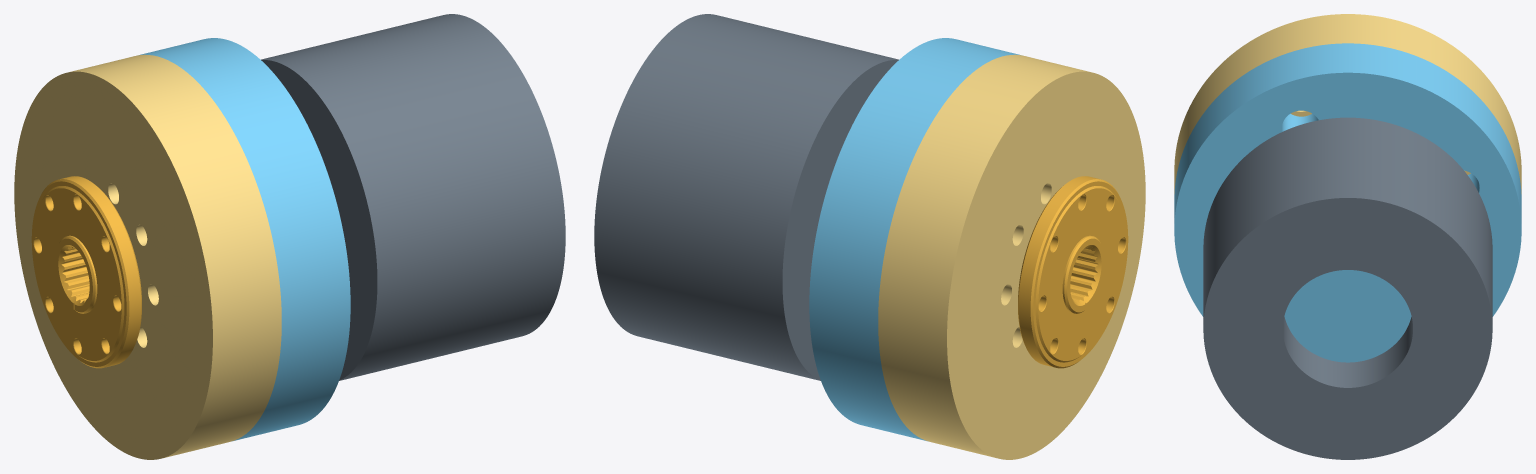
File: FX103_output_adapter_P0.2_review.glb
The picture shows the model from 3 angles, left to right: view 1: azimuth 30°, elevation 25°; view 2: azimuth 150°, elevation 25°; view 3: azimuth 270°, elevation 25°; orthographic projection. The views are drawn at different scales.
Parts seen in each view (by area): view 1: RULAND_MJC33_15_A_CATALOG_ENVELOPE_NOT_SELECTED, FX103_C01_P02_HORN_FLANGE_CANDIDATE, FX103_C02_P01_SHAFT_FLANGE_CANDIDATE, HN12_N101_EXACT_VENDOR_GEOMETRY; view 2: RULAND_MJC33_15_A_CATALOG_ENVELOPE_NOT_SELECTED, FX103_C01_P02_HORN_FLANGE_CANDIDATE, FX103_C02_P01_SHAFT_FLANGE_CANDIDATE, HN12_N101_EXACT_VENDOR_GEOMETRY; view 3: RULAND_MJC33_15_A_CATALOG_ENVELOPE_NOT_SELECTED, FX103_C02_P01_SHAFT_FLANGE_CANDIDATE, FX103_C01_P02_HORN_FLANGE_CANDIDATE.
Part boxes in pixels (x1=…): RULAND_MJC33_15_A_CATALOG_ENVELOPE_NOT_SELECTED: x1=261, y1=14, x2=565, y2=380; FX103_C01_P02_HORN_FLANGE_CANDIDATE: x1=14, y1=54, x2=281, y2=459; FX103_C02_P01_SHAFT_FLANGE_CANDIDATE: x1=139, y1=38, x2=350, y2=441; HN12_N101_EXACT_VENDOR_GEOMETRY: x1=31, y1=176, x2=141, y2=368; RULAND_MJC33_15_A_CATALOG_ENVELOPE_NOT_SELECTED: x1=594, y1=14, x2=898, y2=380; FX103_C01_P02_HORN_FLANGE_CANDIDATE: x1=878, y1=54, x2=1145, y2=459; FX103_C02_P01_SHAFT_FLANGE_CANDIDATE: x1=809, y1=38, x2=1020, y2=441; HN12_N101_EXACT_VENDOR_GEOMETRY: x1=1018, y1=176, x2=1128, y2=368; RULAND_MJC33_15_A_CATALOG_ENVELOPE_NOT_SELECTED: x1=1203, y1=117, x2=1492, y2=459; FX103_C02_P01_SHAFT_FLANGE_CANDIDATE: x1=1174, y1=43, x2=1521, y2=362; FX103_C01_P02_HORN_FLANGE_CANDIDATE: x1=1174, y1=14, x2=1521, y2=193.
Bounding box in the file's own units: 47.52 × 40 × 39.99.
